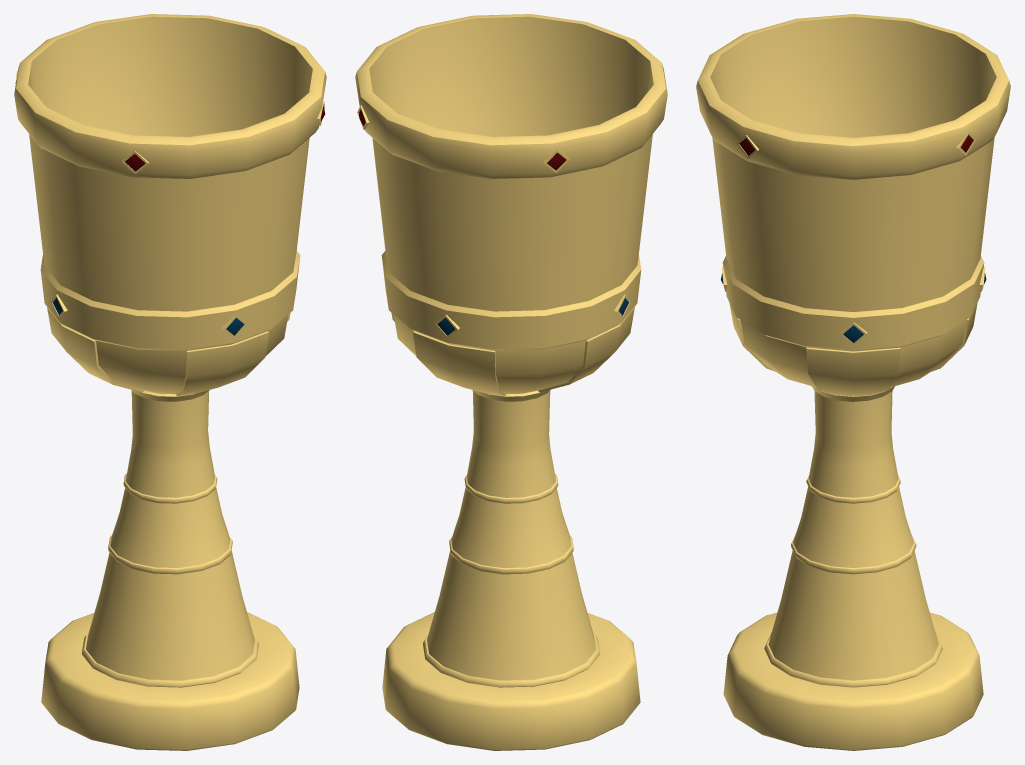
Rendered from Medieval_Goblet.fbx.
3 views of the same model, side by side, from view 1: azimuth 30°, elevation 25°; view 2: azimuth 150°, elevation 25°; view 3: azimuth 270°, elevation 25° (orthographic).
Parts seen in each view (by area): view 1: Goblet; view 2: Goblet; view 3: Goblet.
Part boxes in pixels (box(x1,y1,x2,y2)): Goblet: box(14, 14, 326, 750); Goblet: box(355, 14, 667, 750); Goblet: box(696, 14, 1010, 750).
Bounding box in the file's own units: 8.86 × 19.22 × 8.86.
Materials: 1 (1 with a texture image).
